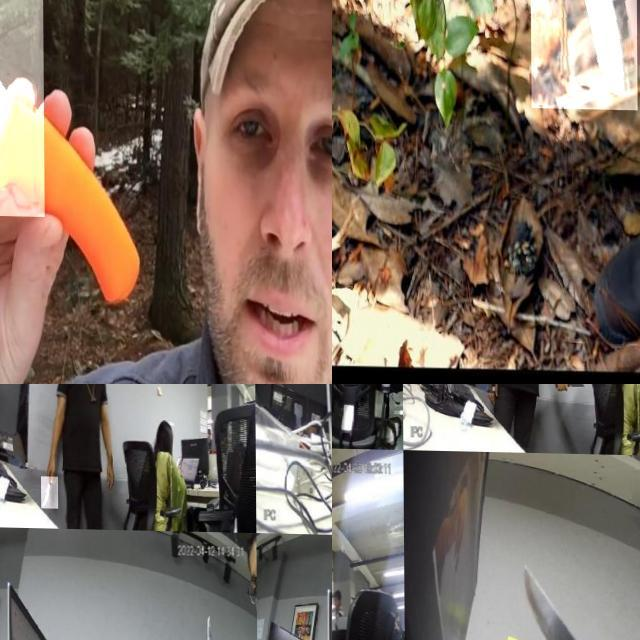-: (0, 0, 101, 216), (529, 0, 637, 120), (524, 559, 619, 640), (41, 476, 58, 508), (554, 384, 584, 399), (203, 611, 218, 640), (332, 384, 342, 422)
